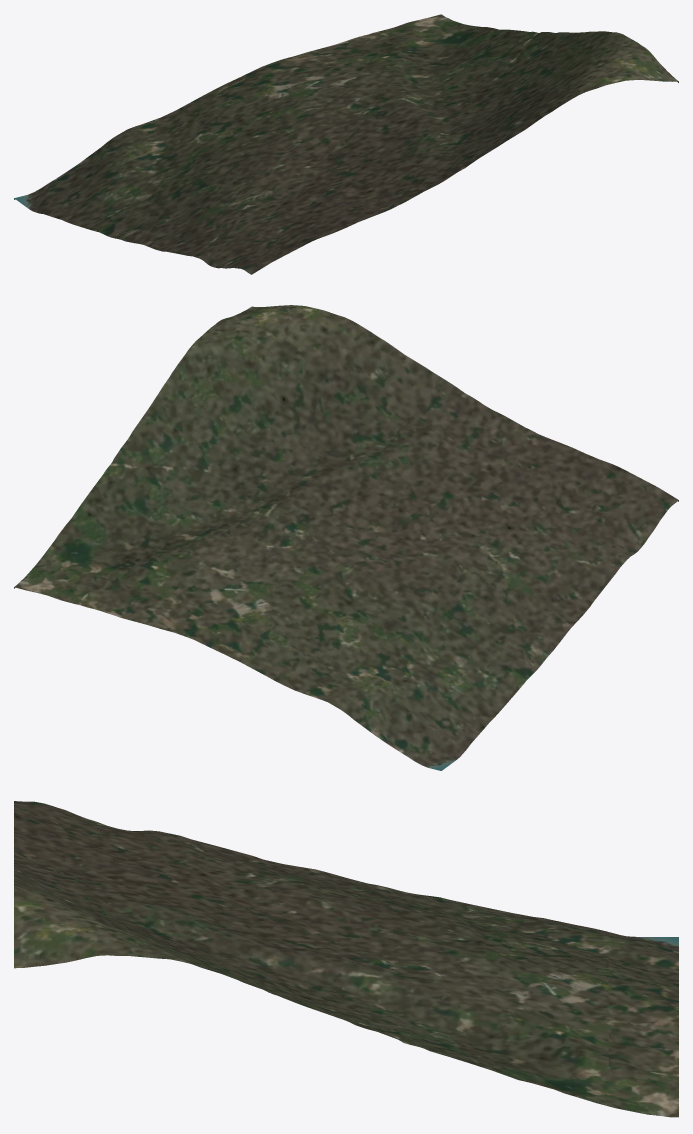
3 renders of one model, top to bottom at view 1: azimuth 30°, elevation 25°; view 2: azimuth 150°, elevation 25°; view 3: azimuth 270°, elevation 25°, orthographic. The views are drawn at different scales.
Size of the model in its own units: 250 by 113 by 241.
1 material, 1 textured.
